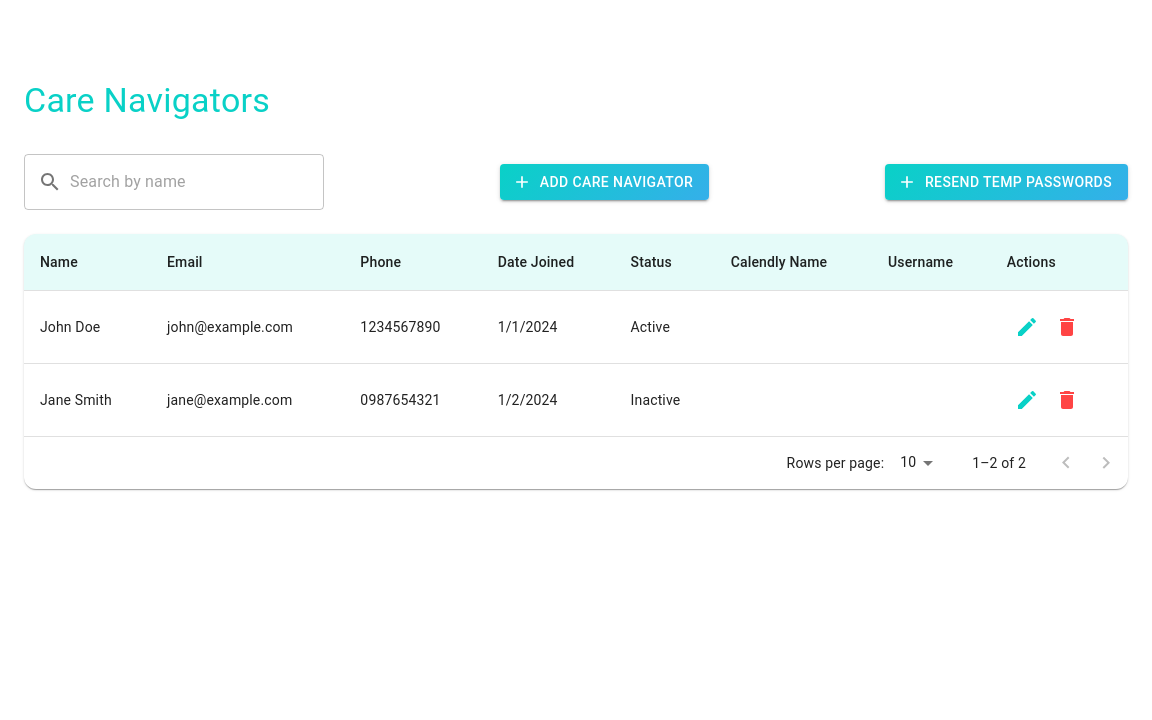
Scenario: CareNavigators Component › Delete Care Navigator › opens delete dialog when delete button is clicked
This screenshot has width=1152, height=720.
Click the delete button
Click the button with test id "delete-button-1" at (1067,327), box 1047,307 -> 1087,347
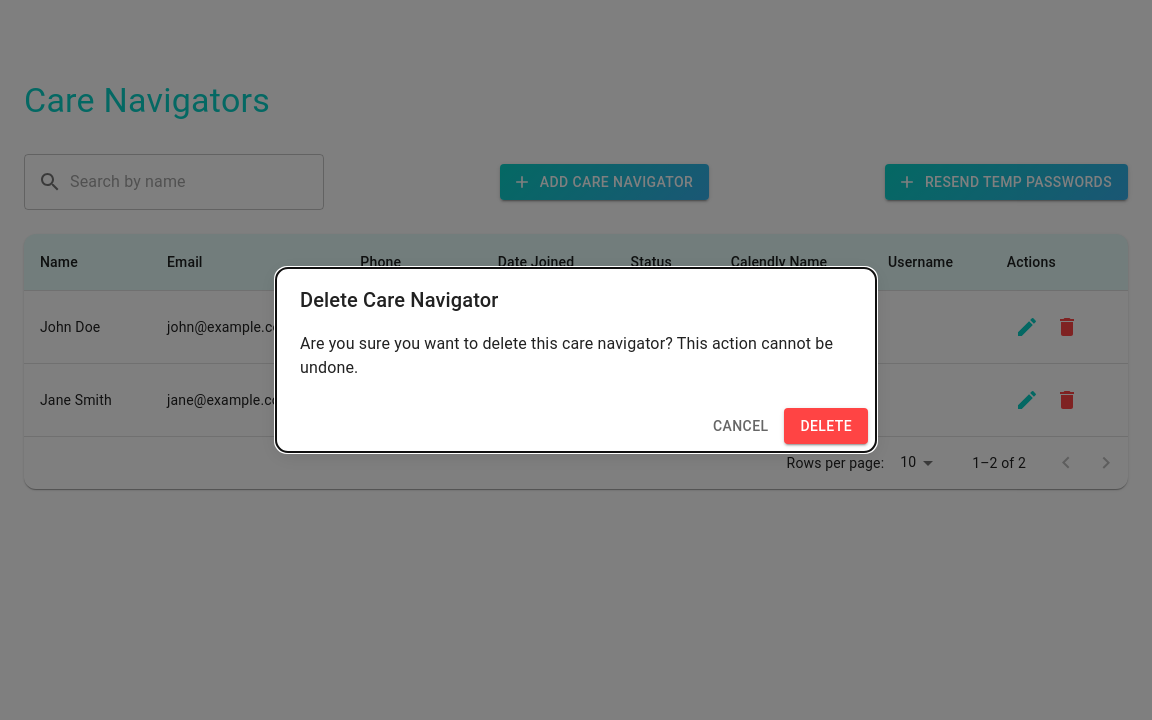
Expected: the element with test id "delete-dialog" is shown
Expected: the heading with test id "delete-dialog-title" reads "Delete Care Navigator", 300,288 -> 498,312
